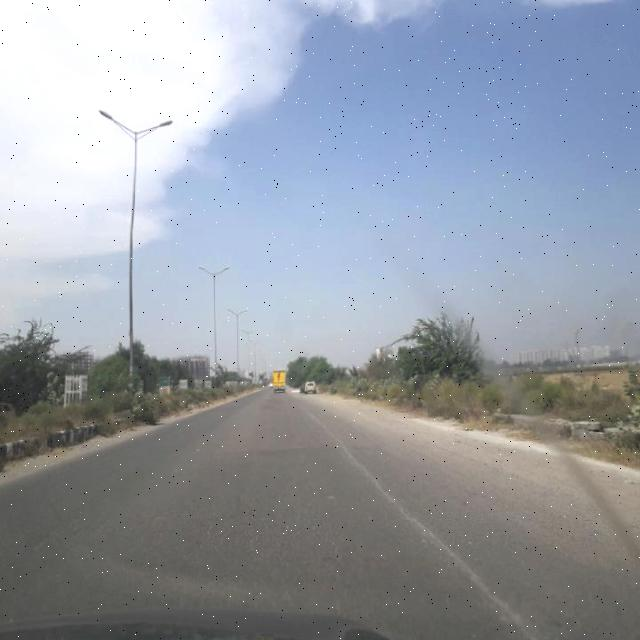D00: (312, 412, 518, 622)
